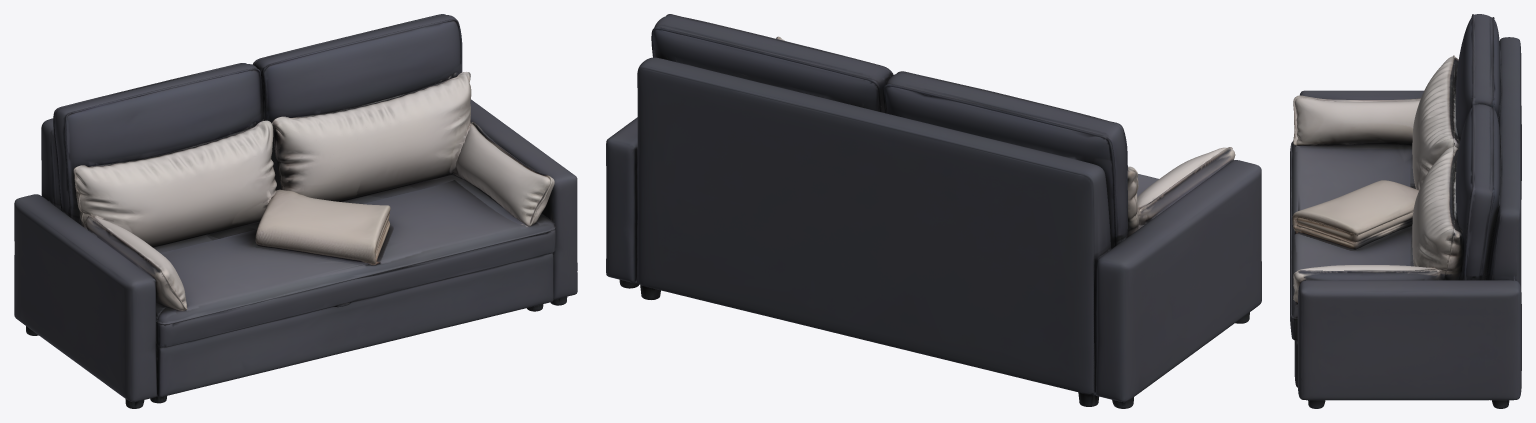
Rendered from Linkas_sofabed_03_v1.glb.
The picture shows the model from 3 angles, left to right: view 1: azimuth 30°, elevation 25°; view 2: azimuth 150°, elevation 25°; view 3: azimuth 270°, elevation 25°; orthographic projection. The views are drawn at different scales.
Visible parts, largest first — view 1: node_0; view 2: node_0; view 3: node_0.
Boxes of the visible parts, x1,y1,x2,y2 form: node_0: (14,14,577,408); node_0: (606,14,1261,408); node_0: (1290,14,1521,408).
Bounding box in the file's own units: 1.02 × 0.4929 × 0.4924.
Materials: 1 (1 with a texture image).
